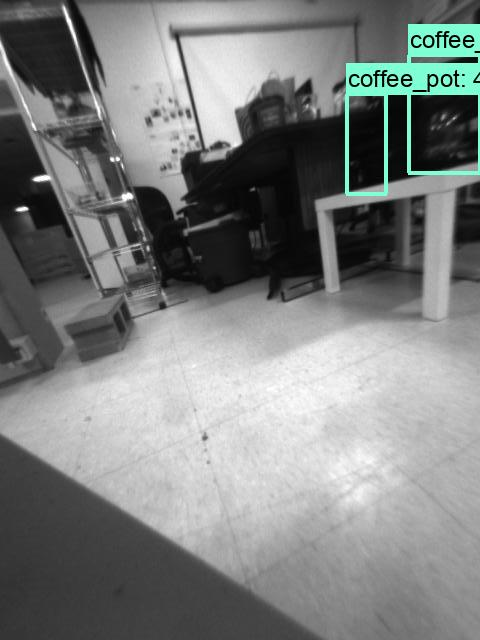coffee_pot: (408, 56, 477, 163)
